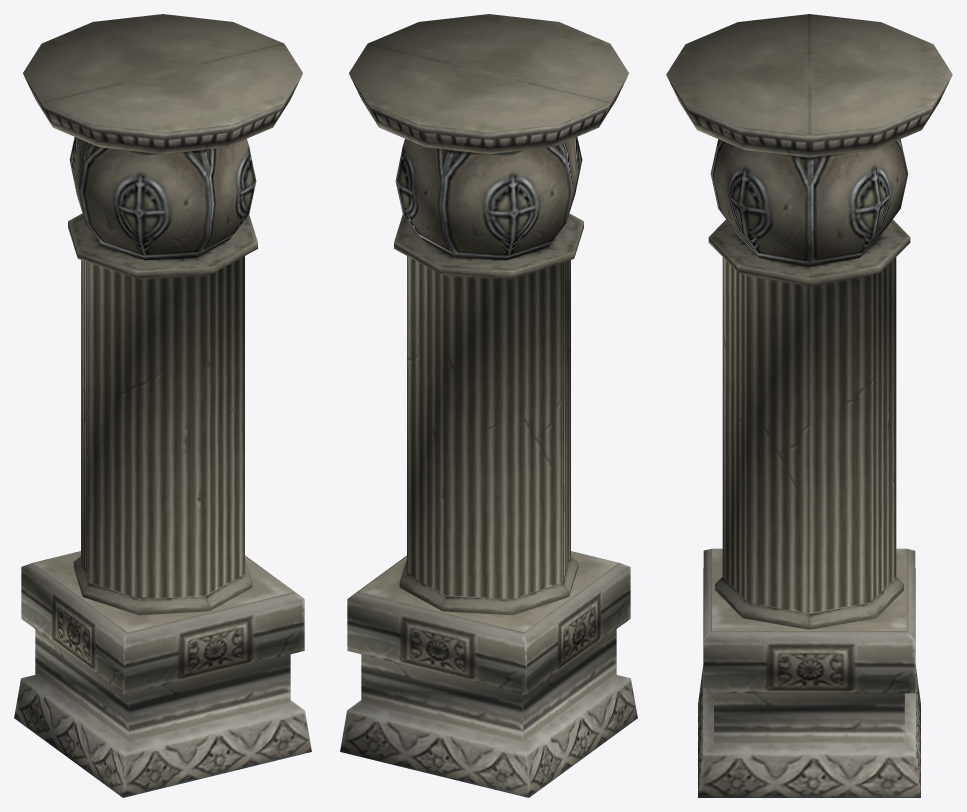
The model's file is GY_shizhu002.fbx.
3 views of the same model, side by side, from view 1: azimuth 30°, elevation 25°; view 2: azimuth 150°, elevation 25°; view 3: azimuth 270°, elevation 25° (orthographic). The views are drawn at different scales.
Parts seen in each view (by area): view 1: GY_shizhu002; view 2: GY_shizhu002; view 3: GY_shizhu002.
Part boxes in pixels (x1,y1,x2,y2): GY_shizhu002: (14,14,311,797); GY_shizhu002: (340,14,637,797); GY_shizhu002: (666,14,952,797).
Bounding box in the file's own units: 156 × 406 × 156.
